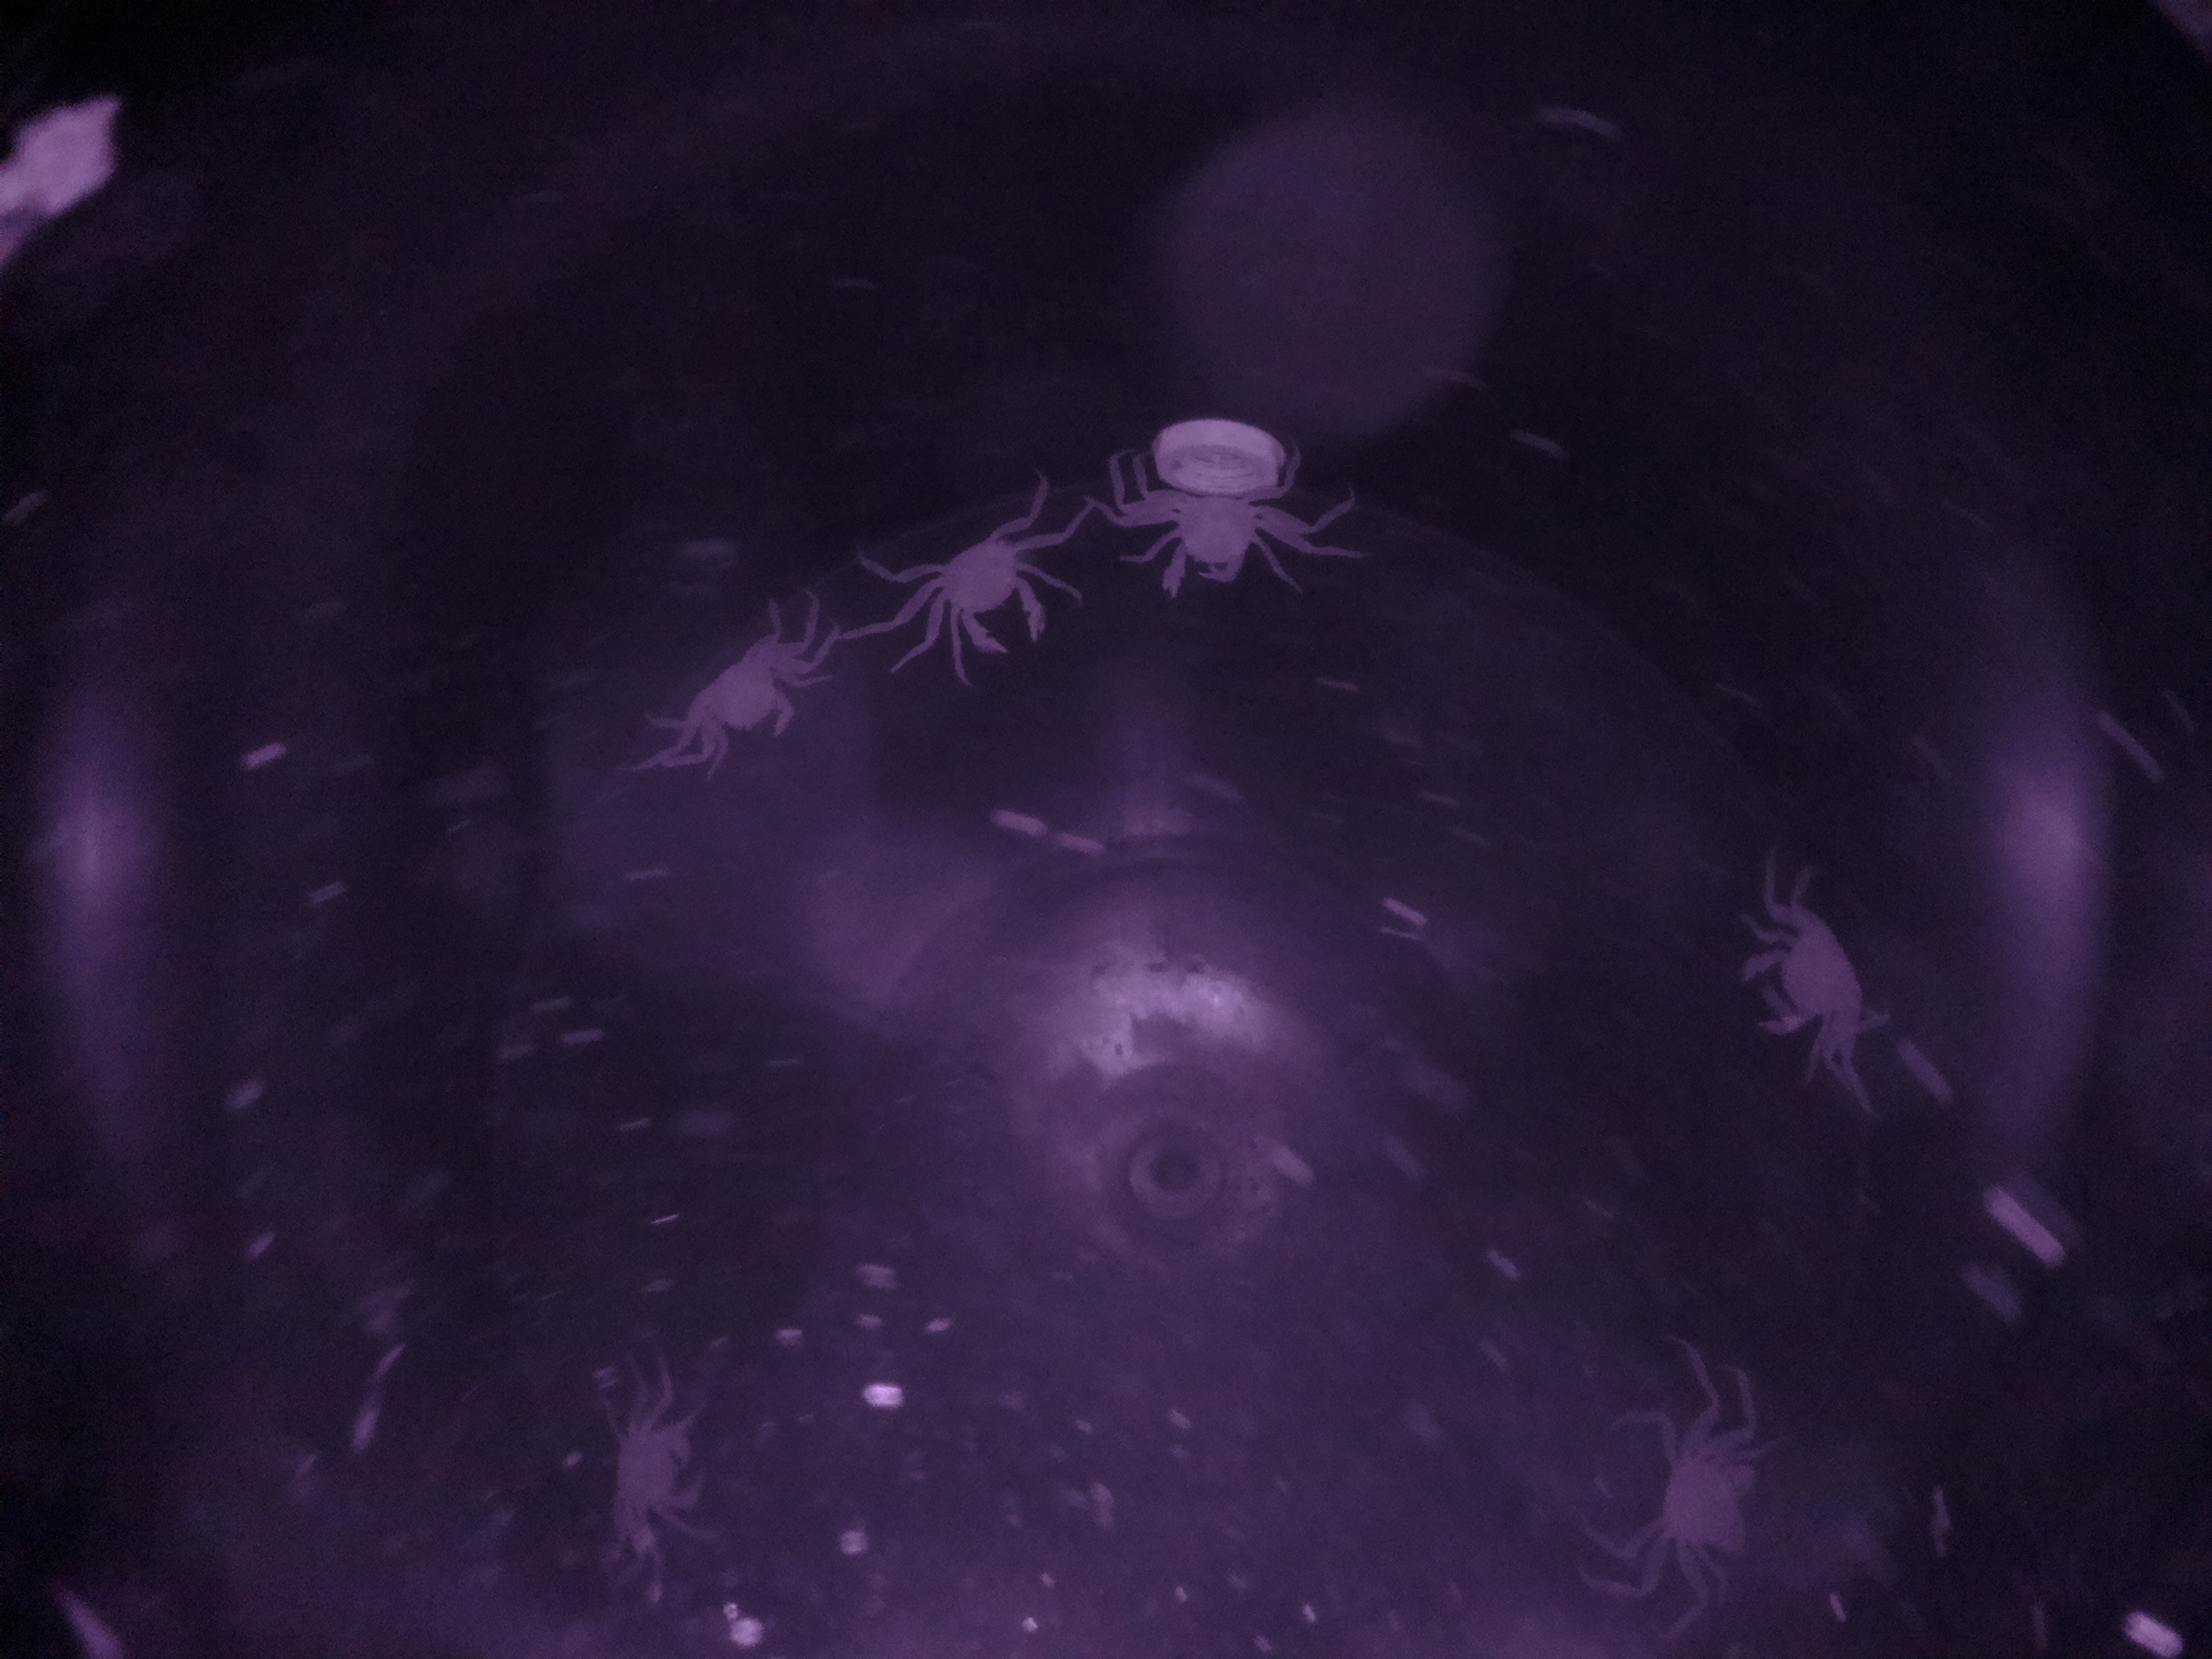Crab: (1609, 1366, 1796, 1601), (641, 608, 838, 788), (1111, 448, 1310, 610), (881, 509, 1069, 680), (1726, 904, 1921, 1065), (580, 1370, 740, 1558)
